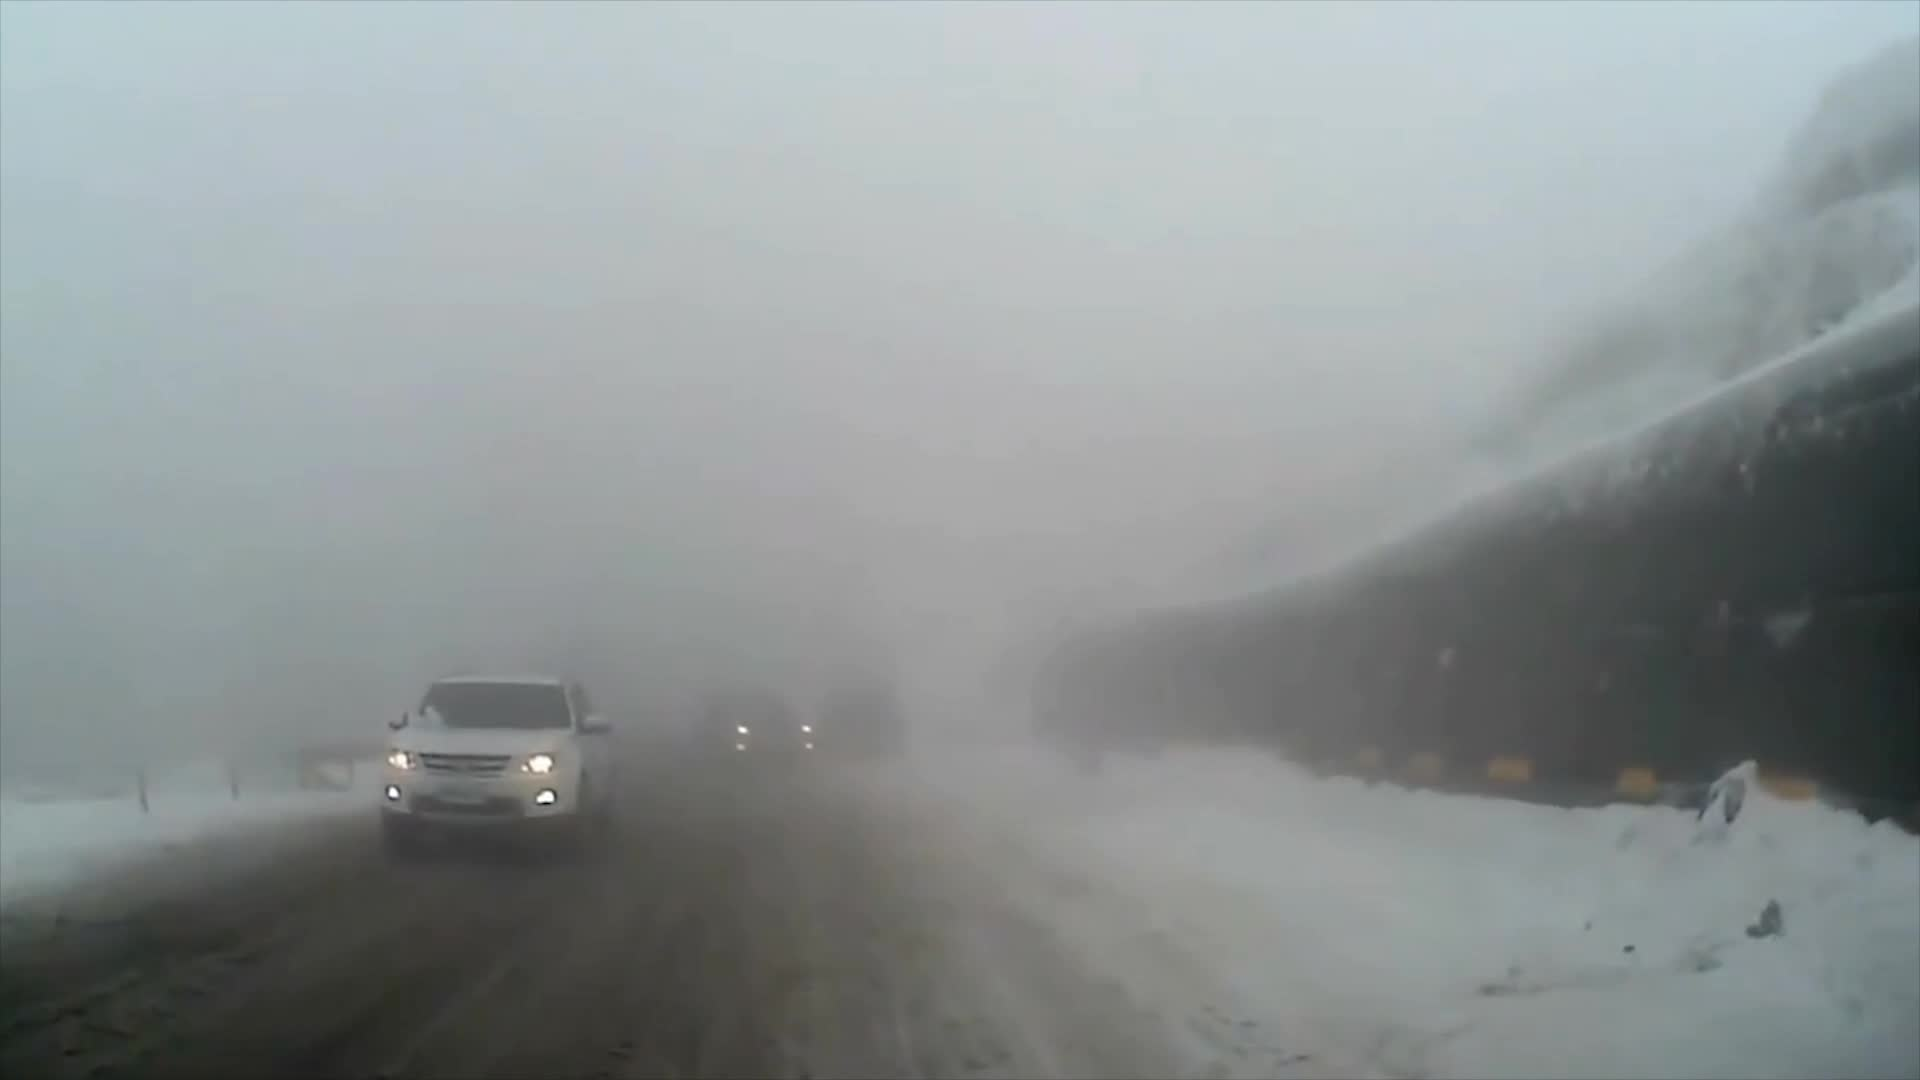vehicle: (375, 665, 616, 856), (691, 692, 818, 787)
